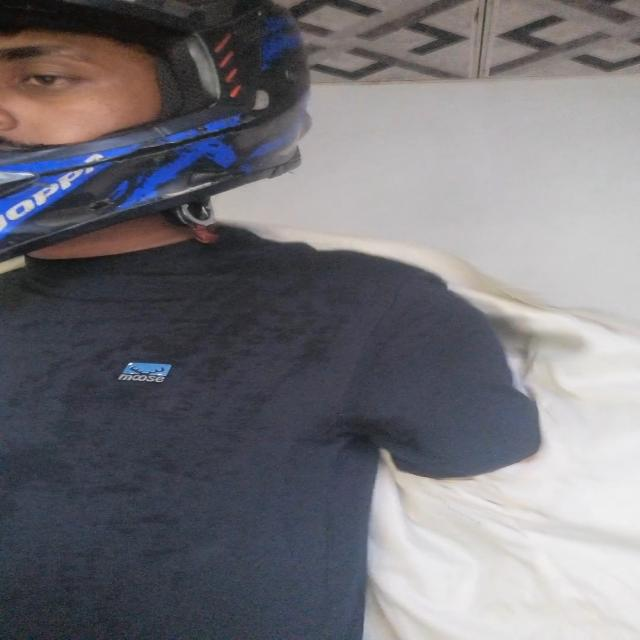Helmet_Wearer: (0, 0, 326, 275)
Person: (0, 0, 526, 640)
